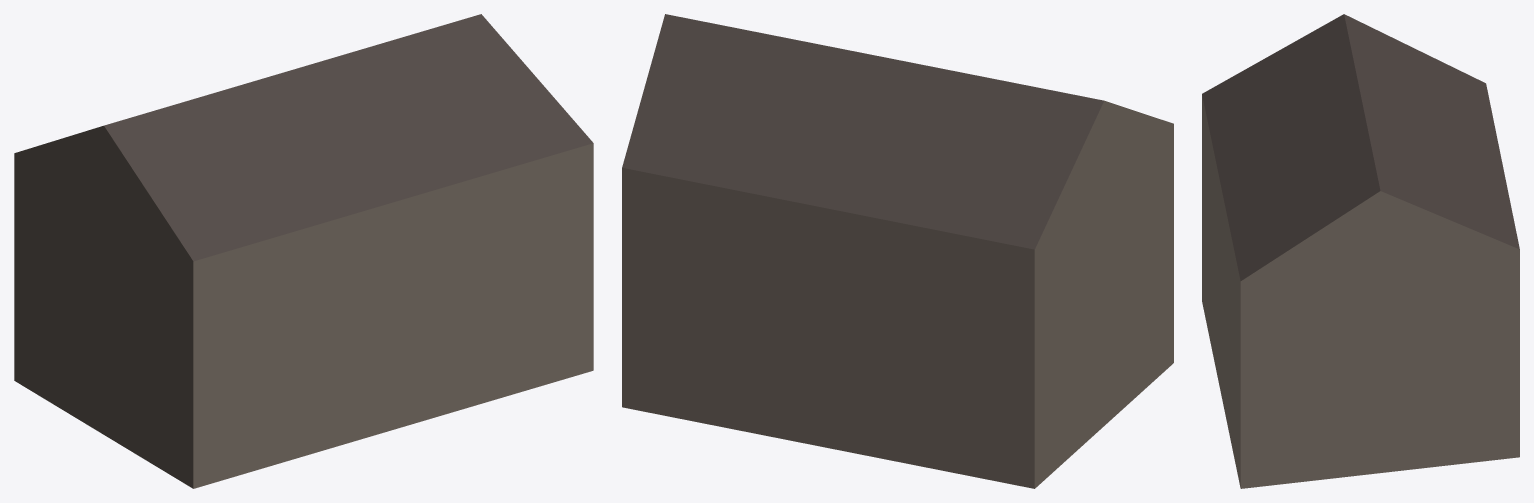
3 views of the same model, side by side, from view 1: azimuth 30°, elevation 25°; view 2: azimuth 150°, elevation 25°; view 3: azimuth 270°, elevation 25° (orthographic). The views are drawn at different scales.
Visible parts, largest first — view 1: HP-w369317494; view 2: HP-w369317494; view 3: HP-w369317494.
Boxes of the visible parts, box(x1,y1,x2,y2) form: HP-w369317494: box(14, 14, 593, 488); HP-w369317494: box(622, 14, 1173, 488); HP-w369317494: box(1202, 14, 1519, 488).
Bounding box in the file's own units: 18.42 × 12.24 × 12.5.
